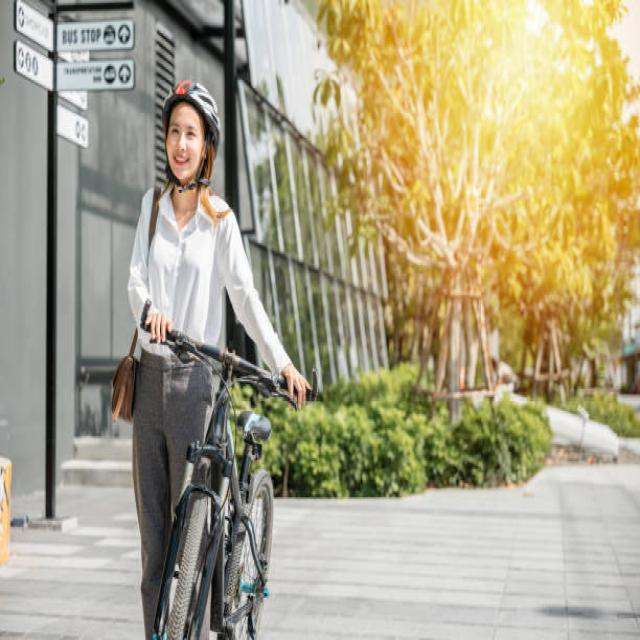bicycle: (128, 81, 316, 639)
